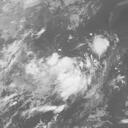cyclone: (87, 34, 113, 60)
